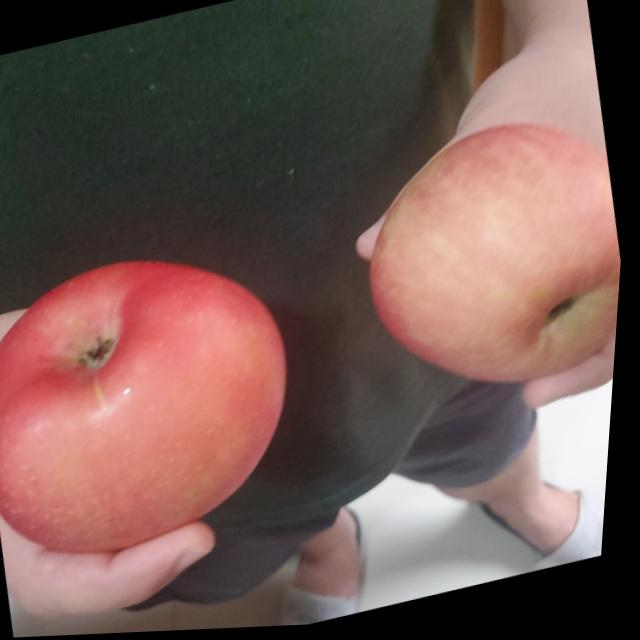apple: (0, 232, 324, 579), (346, 113, 633, 438)
